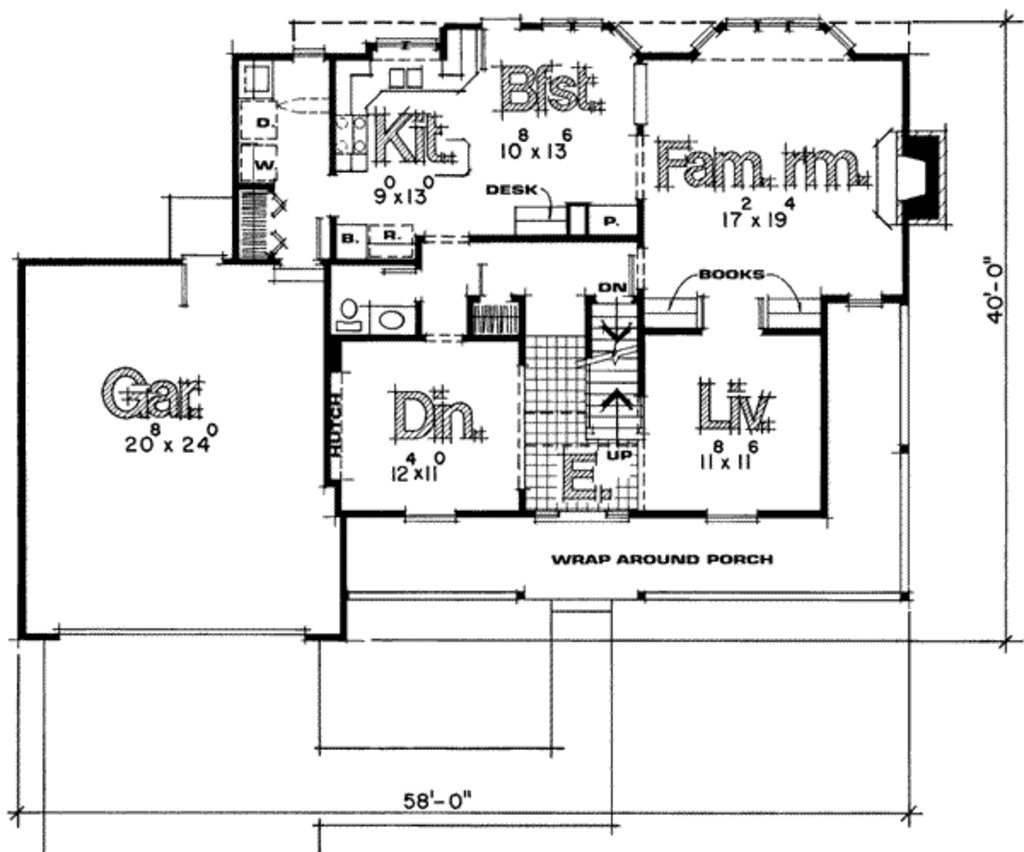large_sink: (332, 294, 372, 339)
small_sink: (369, 302, 418, 338)
stairs: (578, 278, 646, 450)
window: (693, 14, 854, 55), (532, 509, 637, 526), (536, 12, 603, 37), (403, 502, 459, 529), (368, 33, 438, 54), (698, 506, 760, 529), (837, 286, 885, 314), (287, 41, 333, 65)
